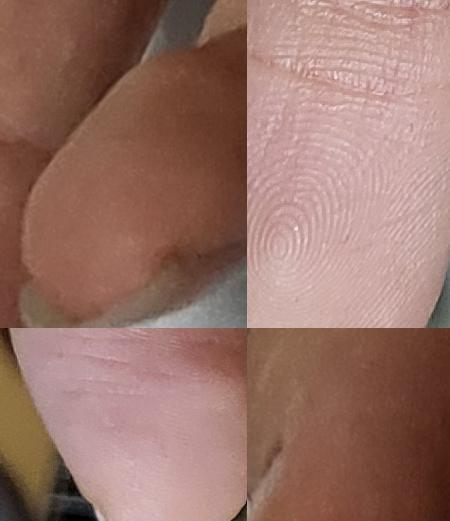Fingerprints: (247, 0, 450, 328), (21, 28, 247, 318), (9, 329, 247, 521), (282, 328, 450, 521)
